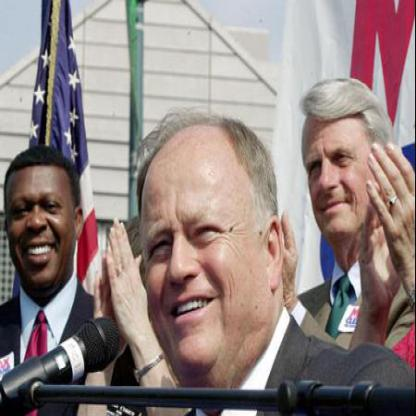face: (134, 125, 271, 384), (298, 89, 381, 242), (6, 147, 77, 294)
